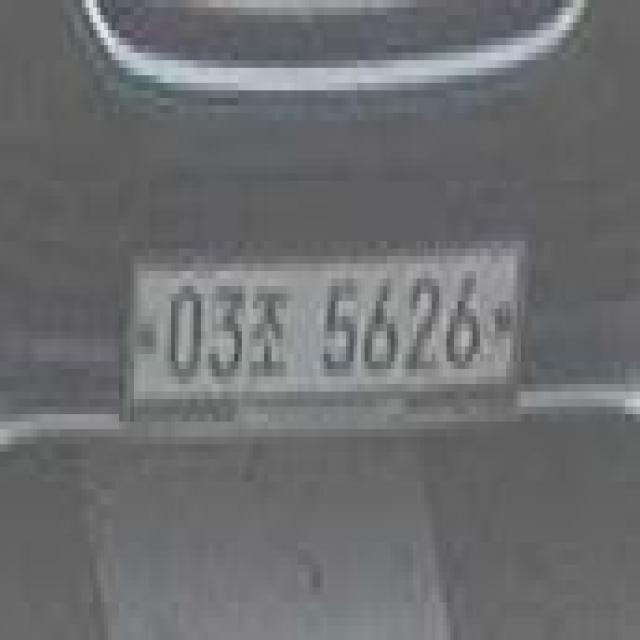illegal_plate: (122, 239, 526, 421)
